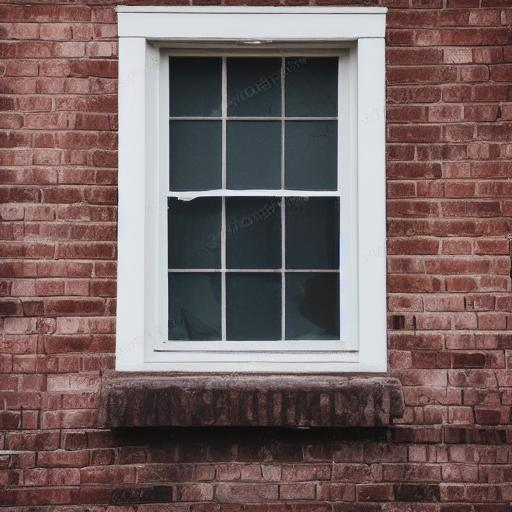Window: (98, 5, 407, 436)
